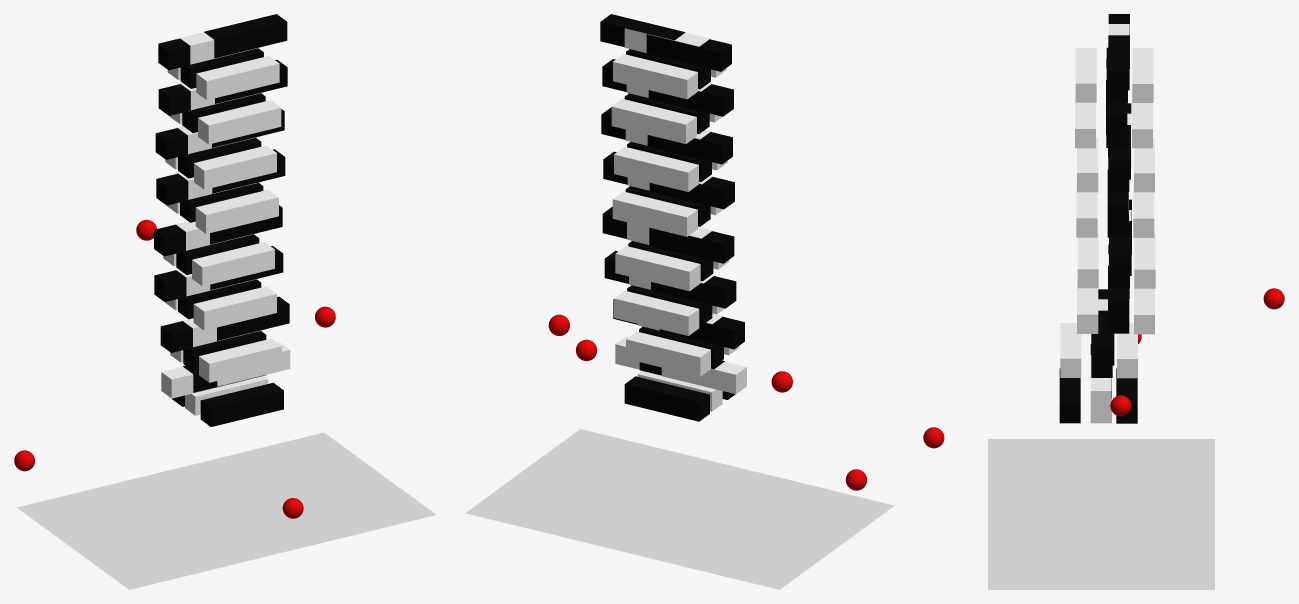
Rendered from Physicsassignment01BAKED.glb.
The picture shows the model from 3 angles, left to right: view 1: azimuth 30°, elevation 25°; view 2: azimuth 150°, elevation 25°; view 3: azimuth 270°, elevation 25°; orthographic projection. The views are drawn at different scales.
Parts seen in each view (by area): view 1: Plane, Cube.003, Cube.015, Cube.039, Cube.045, Cube.027, Cube.009, Cube.033, Cube.021, Cube.048, Cube.012, Cube.043 (+22 smaller); view 2: Plane, Cube.001, Cube.014, Cube.020, Cube.026, Cube.038, Cube.032, Cube.008, Cube.044, Cube.047, Cube.023, Cube.035 (+16 smaller); view 3: Plane, Cube.048, Cube.044, Cube.045, Cube.009, Cube.021, Cube.020, Cube.003, Cube.027, Cube.033, Cube.015, Cube.026 (+13 smaller).
Boxes of the visible parts, x1,y1,x2,y2 form: Plane: [17, 432, 436, 589]; Cube.003: [200, 382, 283, 426]; Cube.015: [193, 286, 276, 330]; Cube.039: [198, 100, 281, 144]; Cube.045: [196, 56, 279, 99]; Cube.027: [195, 189, 278, 233]; Cube.009: [199, 338, 281, 382]; Cube.033: [194, 145, 276, 189]; Cube.021: [192, 242, 274, 286]; Cube.048: [204, 14, 287, 58]; Cube.012: [217, 296, 289, 340]; Cube.043: [180, 48, 263, 88]; Plane: [465, 429, 894, 589]; Cube.001: [624, 376, 709, 421]; Cube.014: [614, 290, 699, 335]; Cube.020: [615, 246, 700, 291]; Cube.026: [612, 191, 697, 236]; Cube.038: [611, 99, 696, 143]; Cube.032: [614, 147, 698, 191]; Cube.008: [626, 331, 710, 376]; Cube.044: [613, 54, 697, 99]; Cube.047: [646, 34, 731, 71]; Cube.023: [649, 228, 734, 263]; Cube.035: [647, 132, 732, 164]; Plane: [988, 439, 1214, 589]; Cube.048: [1108, 35, 1129, 90]; Cube.044: [1132, 48, 1153, 102]; Cube.045: [1075, 48, 1096, 102]; Cube.009: [1060, 323, 1081, 377]; Cube.021: [1077, 233, 1098, 288]; Cube.020: [1134, 234, 1155, 288]; Cube.003: [1059, 368, 1080, 423]; Cube.027: [1076, 182, 1097, 237]; Cube.033: [1077, 137, 1098, 192]; Cube.015: [1077, 279, 1098, 333]; Cube.026: [1133, 183, 1154, 237].
Bounding box in the file's own units: 38.51 × 49.54 × 34.18.
